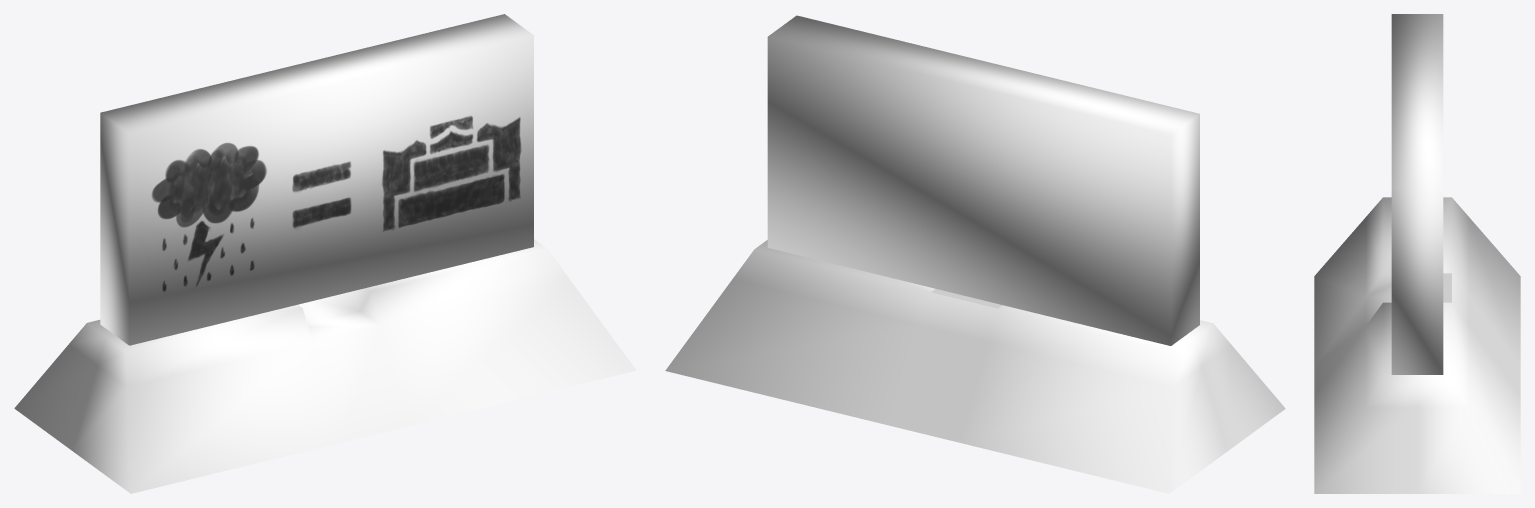
The model's file is sign.glb.
3 renders of one model, left to right at view 1: azimuth 30°, elevation 25°; view 2: azimuth 150°, elevation 25°; view 3: azimuth 270°, elevation 25°, orthographic. The views are drawn at different scales.
Visible parts, largest first — view 1: stktex_generic_aztekWall_a.png__, stktex_generic_concreteA.png__, stktex_temple_floodWarning_a.png__; view 2: stktex_generic_aztekWall_a.png__, stktex_generic_concreteA.png__; view 3: stktex_generic_concreteA.png__, stktex_generic_aztekWall_a.png__, ___.
Boxes of the visible parts, left/top/right/bottom form: stktex_generic_aztekWall_a.png__: left=100, top=14, right=533, bottom=345; stktex_generic_concreteA.png__: left=14, top=239, right=636, bottom=493; stktex_temple_floodWarning_a.png__: left=152, top=116, right=521, bottom=291; stktex_generic_aztekWall_a.png__: left=767, top=15, right=1199, bottom=345; stktex_generic_concreteA.png__: left=665, top=240, right=1285, bottom=493; stktex_generic_concreteA.png__: left=1314, top=197, right=1520, bottom=493; stktex_generic_aztekWall_a.png__: left=1391, top=14, right=1443, bottom=374; ___: left=1443, top=273, right=1451, bottom=302.
Size of the model in its own units: 7.5 by 4.5 by 3.
Materials: 4 (1 with a texture image).
